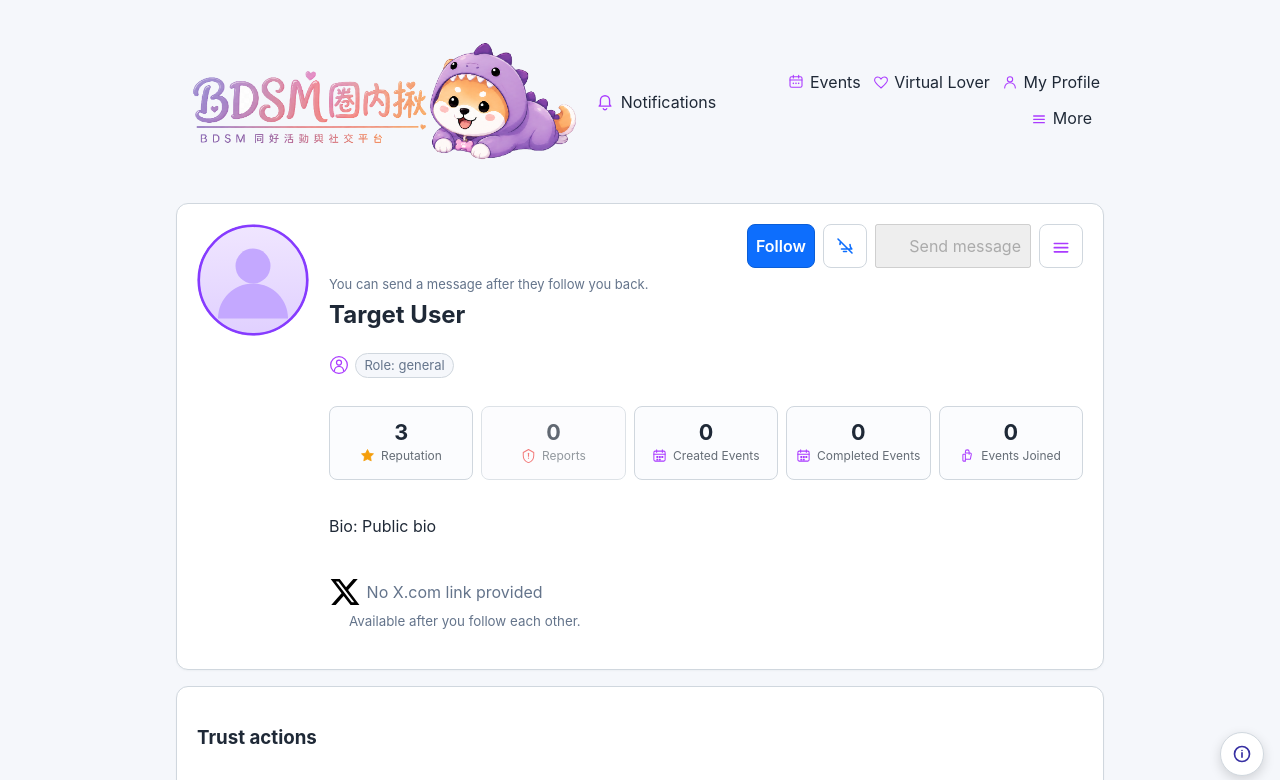
ProfilePage › follows another user from their profile
Click the button "Follow" at (781, 246), box left=747, top=224, right=815, bottom=268
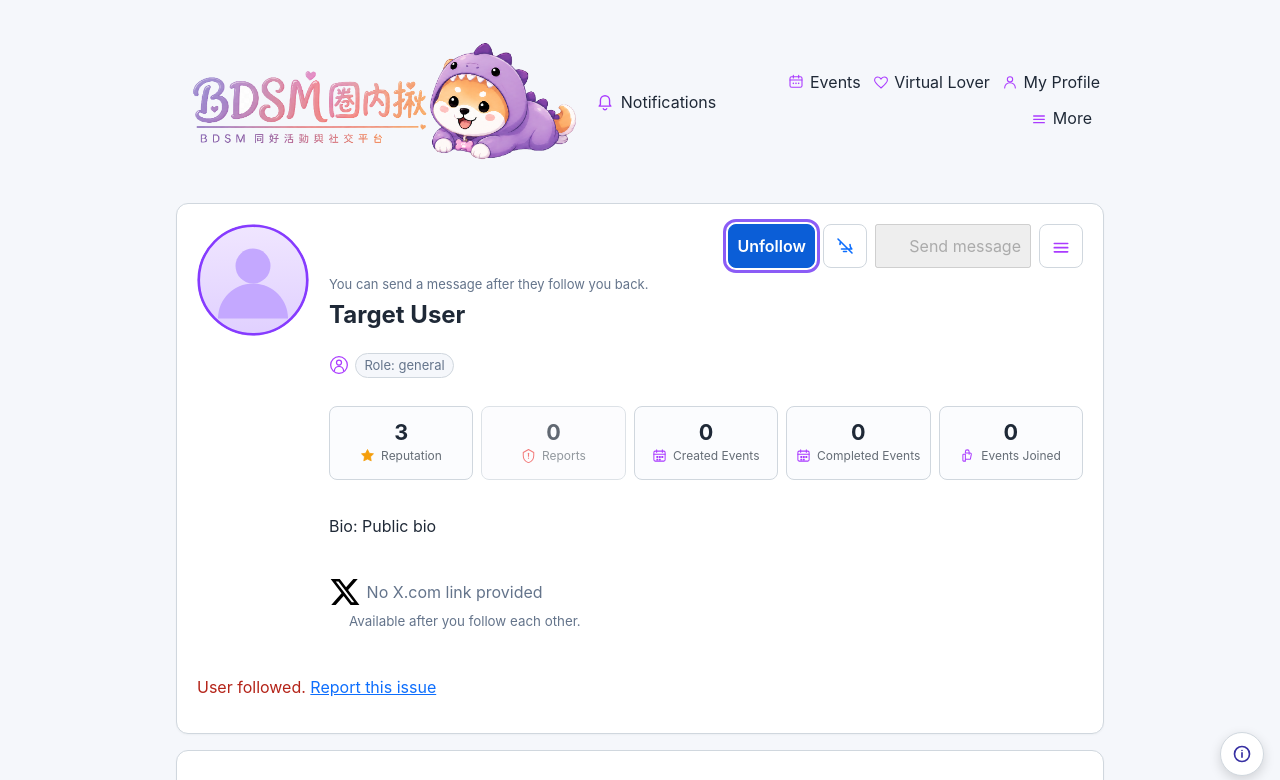
Now the text "User followed." is shown, box left=197, top=677, right=306, bottom=697
Now the button "Unfollow" is shown, box left=728, top=224, right=815, bottom=268
